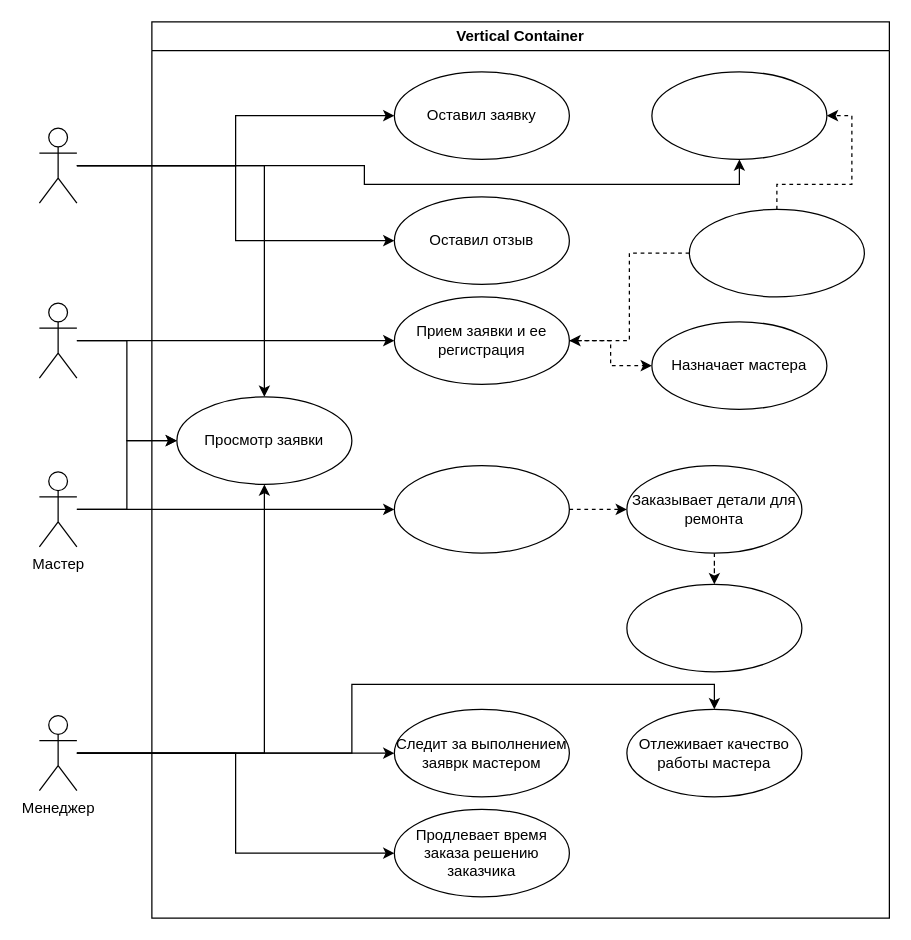
The diagram is 911 pixels wide and 940 high, and some of its shapes have lost their labels. Each missing label, with the centre of its shape:
Анализирует заяку: point 776,252
Делает заявку: point 481,508
Добавить детали к заявке: point 739,115
Заказчик: point 57,165
Оператор: point 57,340
Предоставляет отчет о выполнении заявки: point 714,627
